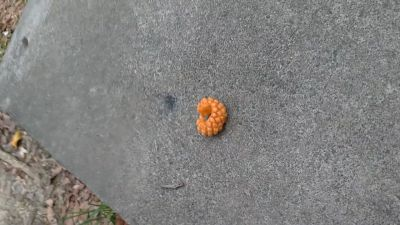eggs: (194, 95, 229, 139)
